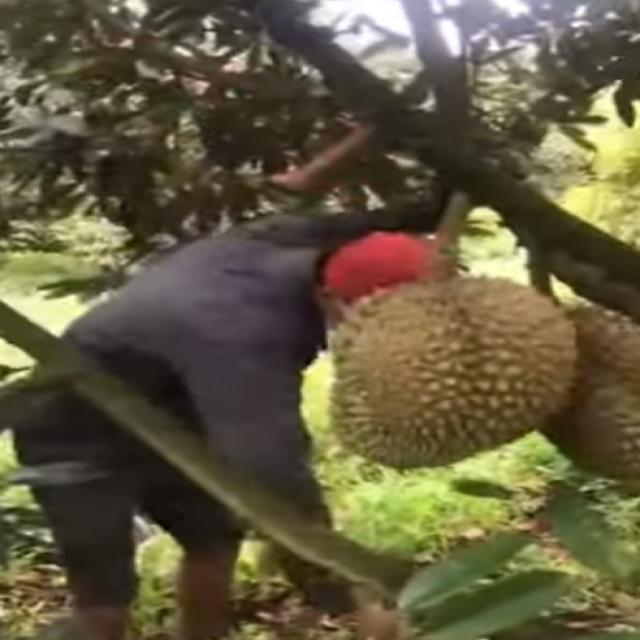mature: (307, 268, 589, 472)
